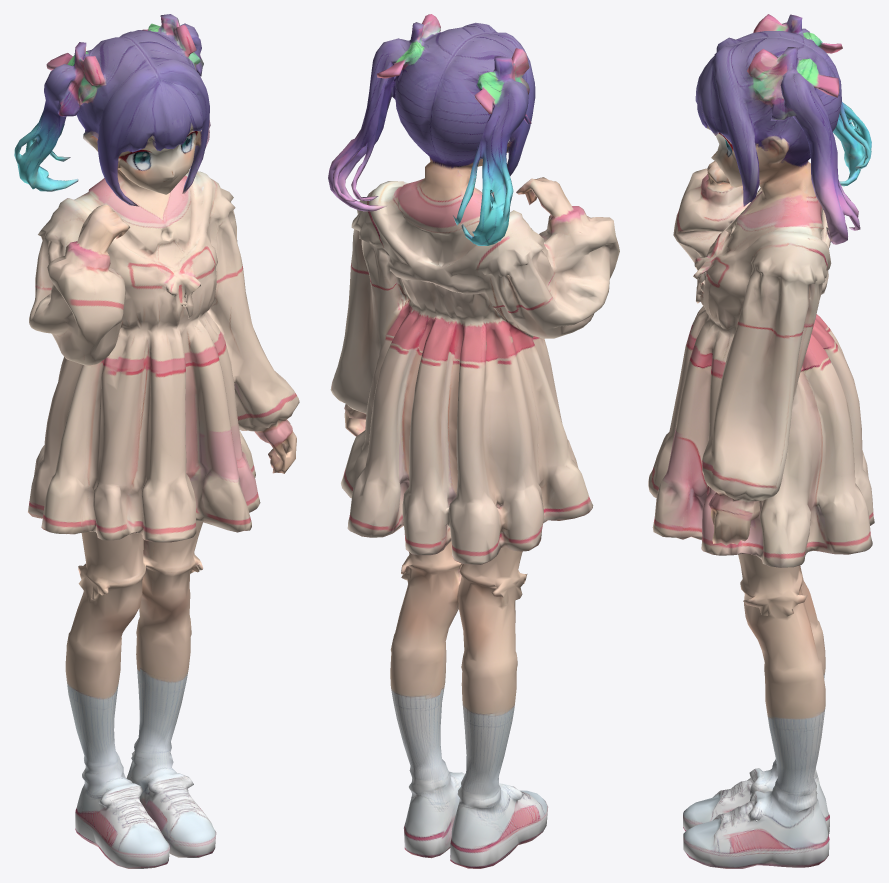
The model's file is Mimi.glb.
3 views of the same model, side by side, from view 1: azimuth 30°, elevation 25°; view 2: azimuth 150°, elevation 25°; view 3: azimuth 270°, elevation 25° (orthographic).
Size of the model in its own units: 0.6478 by 1.91 by 0.4797.
Materials: 1 (1 with a texture image).
